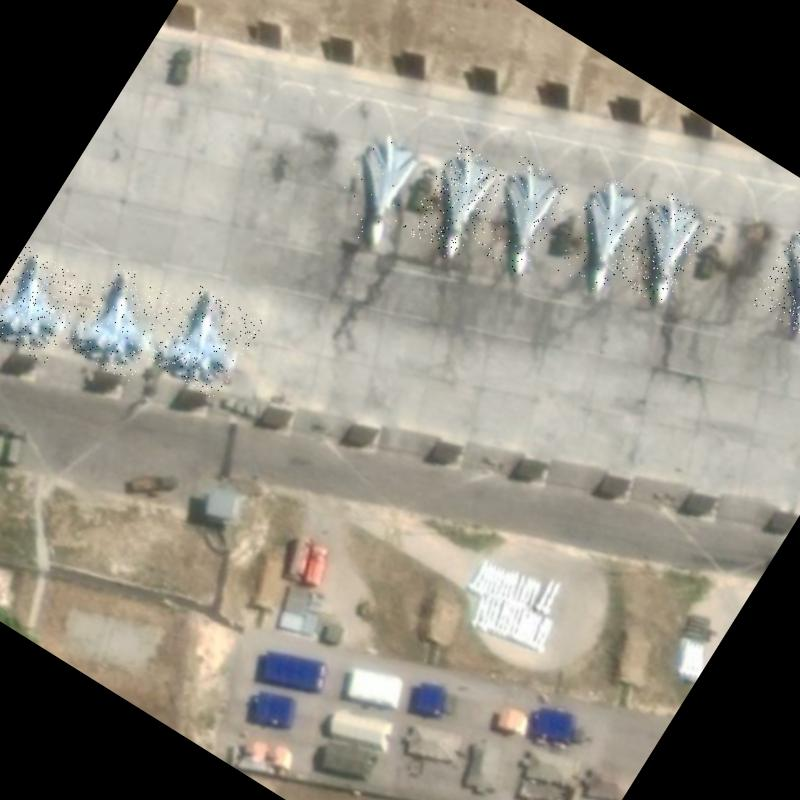A1: (62, 260, 182, 385), (148, 280, 264, 403), (0, 244, 93, 366)
A20: (322, 124, 434, 251), (546, 171, 657, 297), (466, 155, 576, 278), (401, 140, 510, 263), (610, 187, 718, 308), (750, 214, 800, 337)
